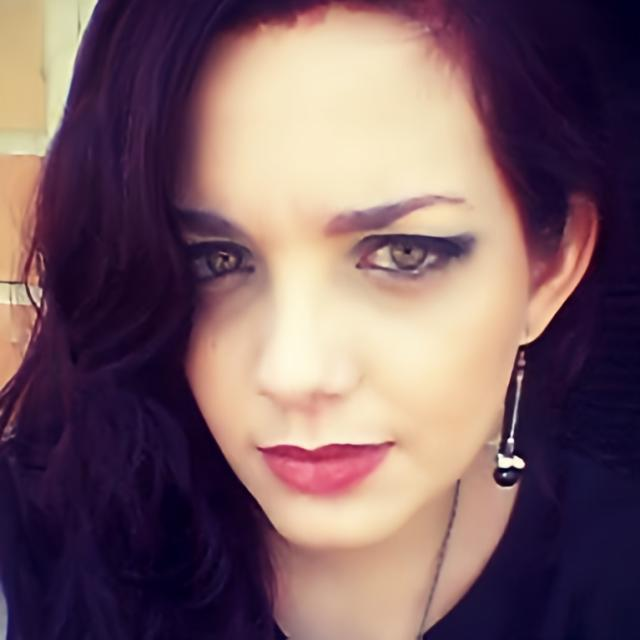content: (174, 2, 530, 555)
